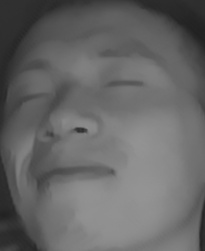blink: (103, 71, 150, 100), (10, 86, 54, 111)
mouth: (30, 151, 118, 194)
